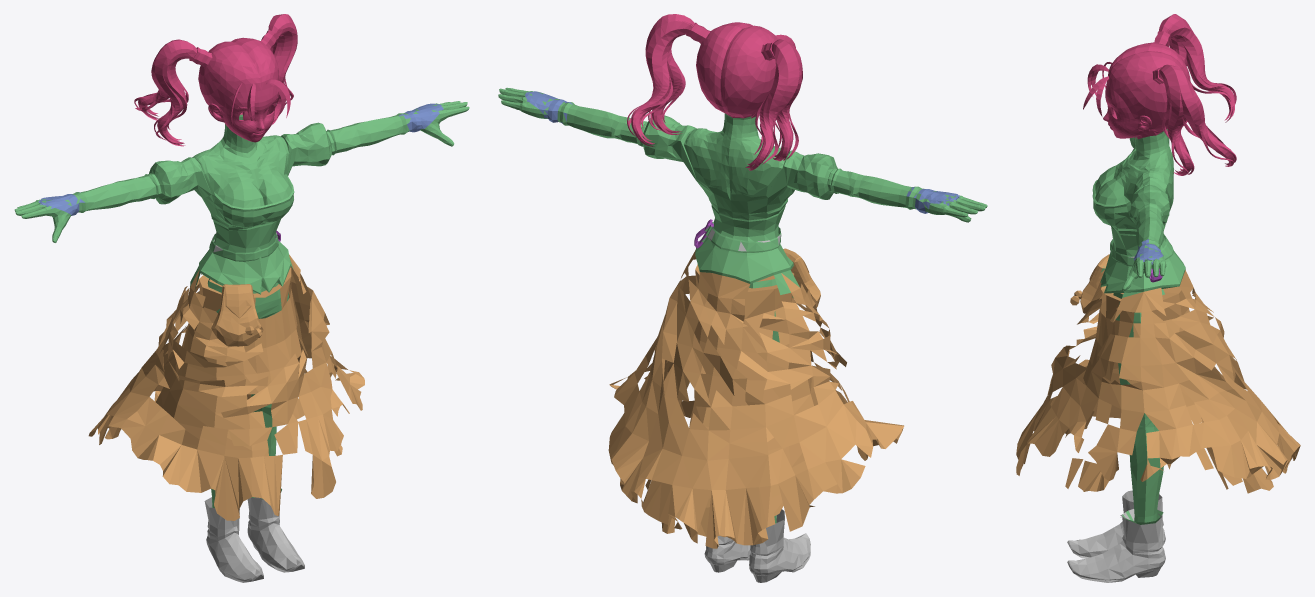
3 views of the same model, side by side, from view 1: azimuth 30°, elevation 25°; view 2: azimuth 150°, elevation 25°; view 3: azimuth 270°, elevation 25° (orthographic). The views are drawn at different scales.
Visible parts, largest first — view 1: pred_mesh_gc.ply; view 2: pred_mesh_gc.ply; view 3: pred_mesh_gc.ply.
Boxes of the visible parts, x1,y1,x2,y2 form: pred_mesh_gc.ply: (14,14,469,582); pred_mesh_gc.ply: (498,14,987,582); pred_mesh_gc.ply: (1016,14,1300,582).
Size of the model in its own units: 0.6346 by 0.6933 by 0.3414.
